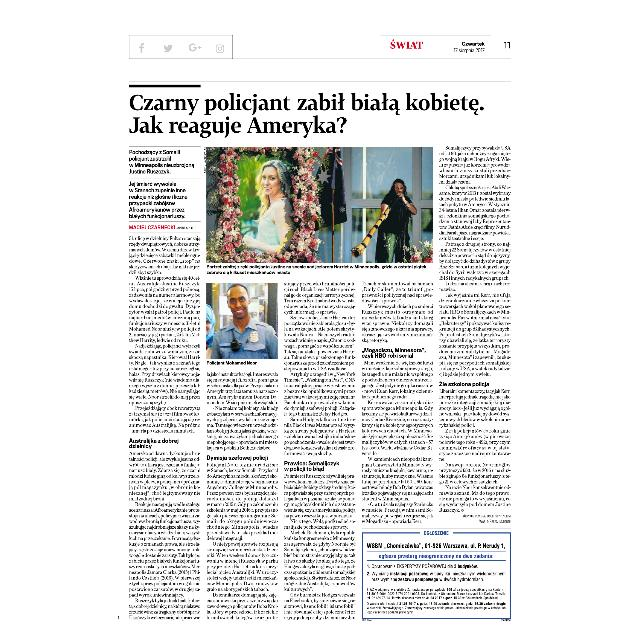article: (116, 78, 520, 624)
